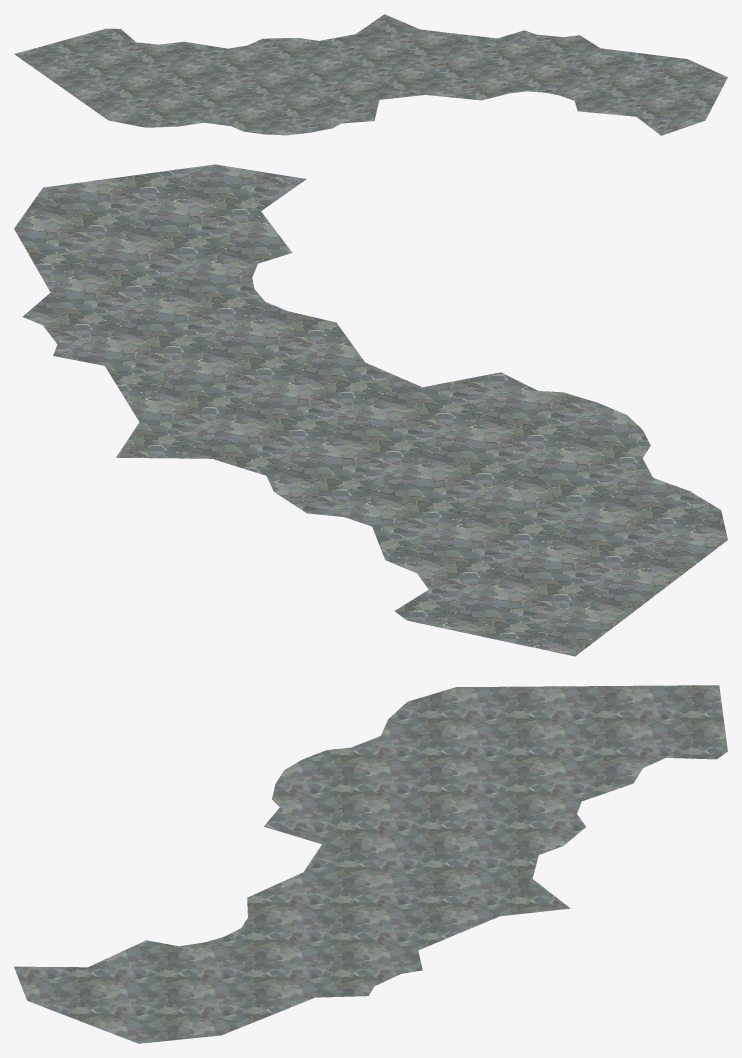
File: Map_06_ground01.FBX
3 renders of one model, top to bottom at view 1: azimuth 30°, elevation 25°; view 2: azimuth 150°, elevation 25°; view 3: azimuth 270°, elevation 25°, orthographic. The views are drawn at different scales.
Parts seen in each view (by area): view 1: Map_06_ground01; view 2: Map_06_ground01; view 3: Map_06_ground01.
Boxes of the visible parts, x1,y1,x2,y2 form: Map_06_ground01: (14,14,727,135); Map_06_ground01: (14,164,727,656); Map_06_ground01: (14,685,727,1043).
Size of the model in its own units: 7210 by 0.00614 by 6067.
1 material, 1 textured.
